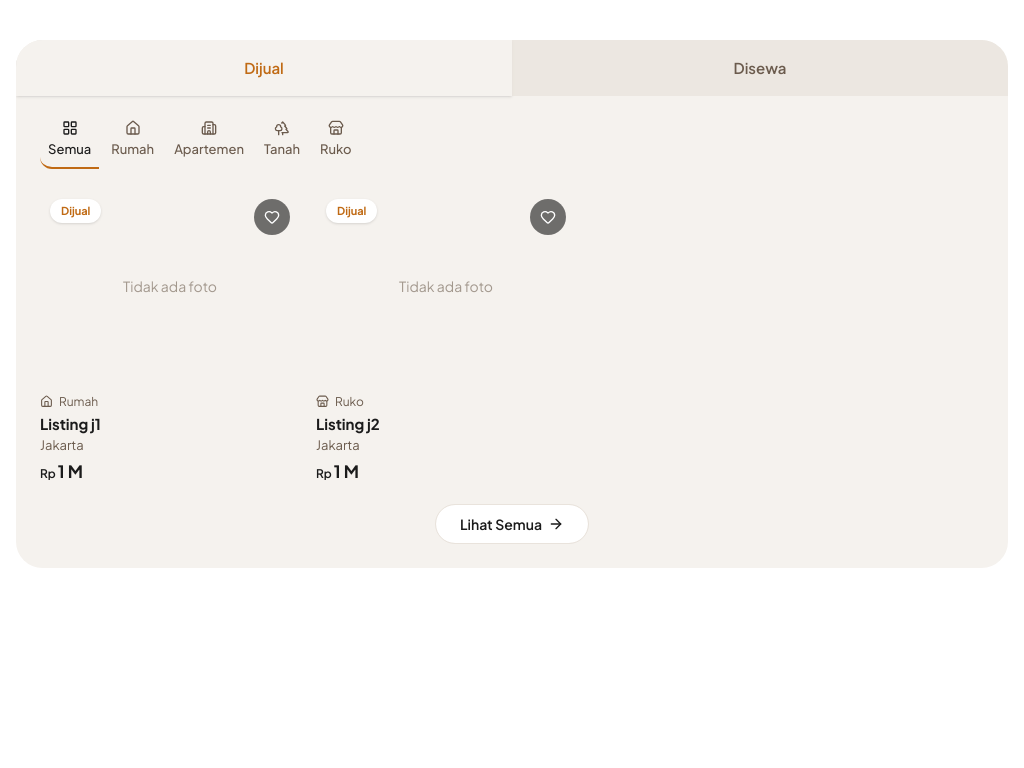
Test case: ListingPanel › switches to rentals in place
Step 1. Press the mouse on the tab "Disewa" → {"x": 760, "y": 68}, box x1=512 y1=40 x2=1008 y2=96
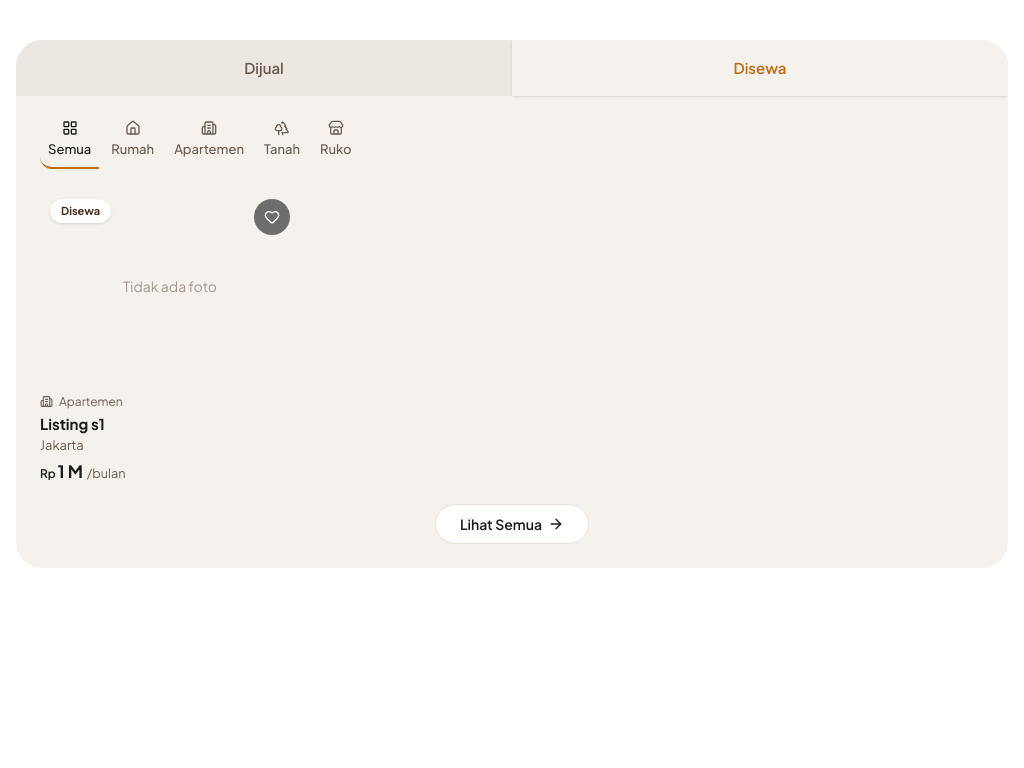
Result: the heading "Listing s1" is shown at x1=40 y1=414 x2=105 y2=433
Result: the link "Listing j1" is gone
